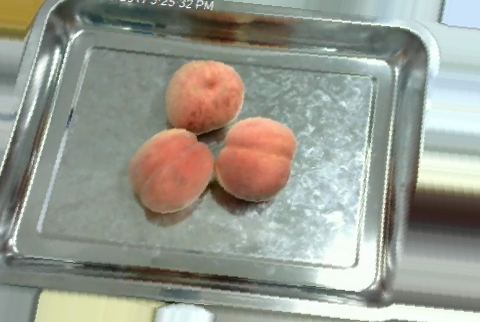Peach: (131, 126, 213, 213), (215, 118, 296, 198), (165, 57, 245, 133)
